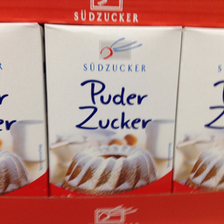tomato_sauce: (44, 24, 182, 198), (173, 28, 224, 193)
